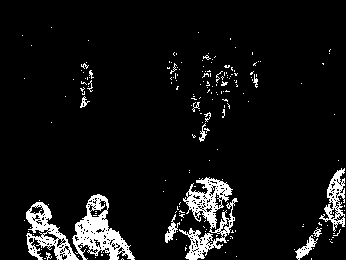person: (298, 168, 344, 260), (73, 194, 136, 260), (24, 202, 78, 260), (216, 65, 240, 118)
